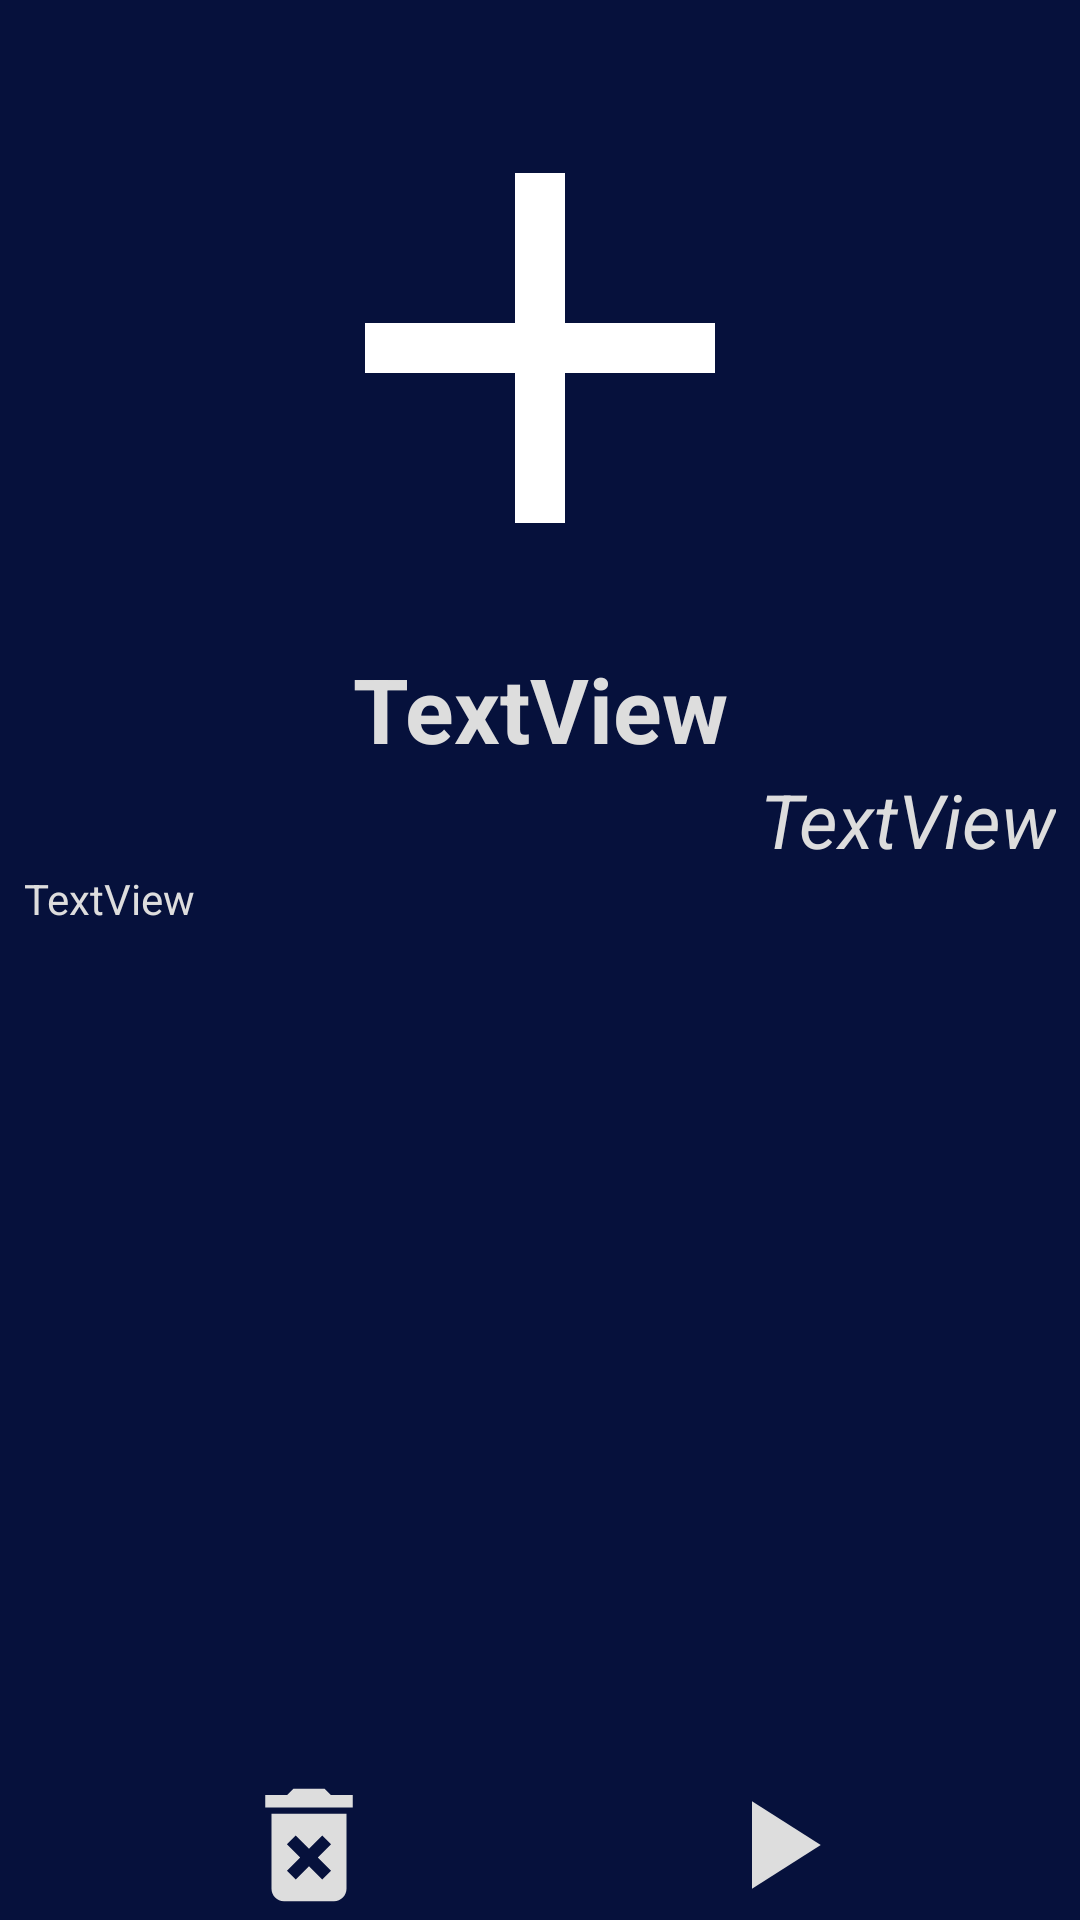

Icon click points for this 1080 x 1920 phone screenshot, format point (x, y):
hapus: point (309, 1845)
play: point (786, 1845)
